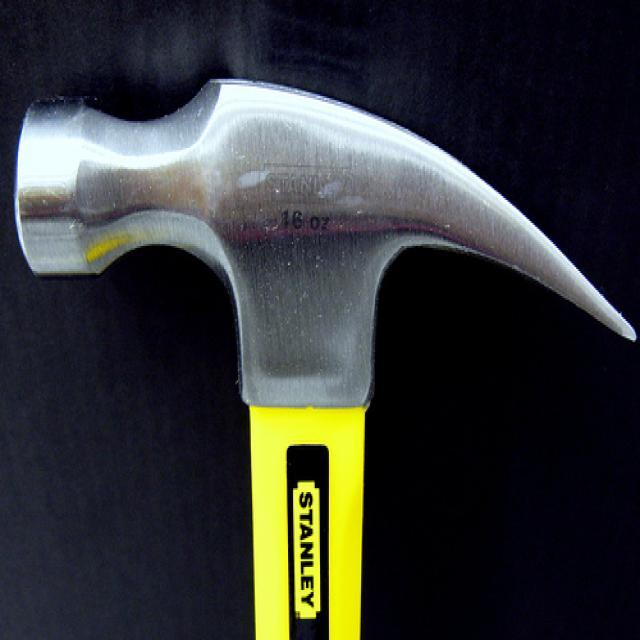hammer: (5, 64, 640, 638)
